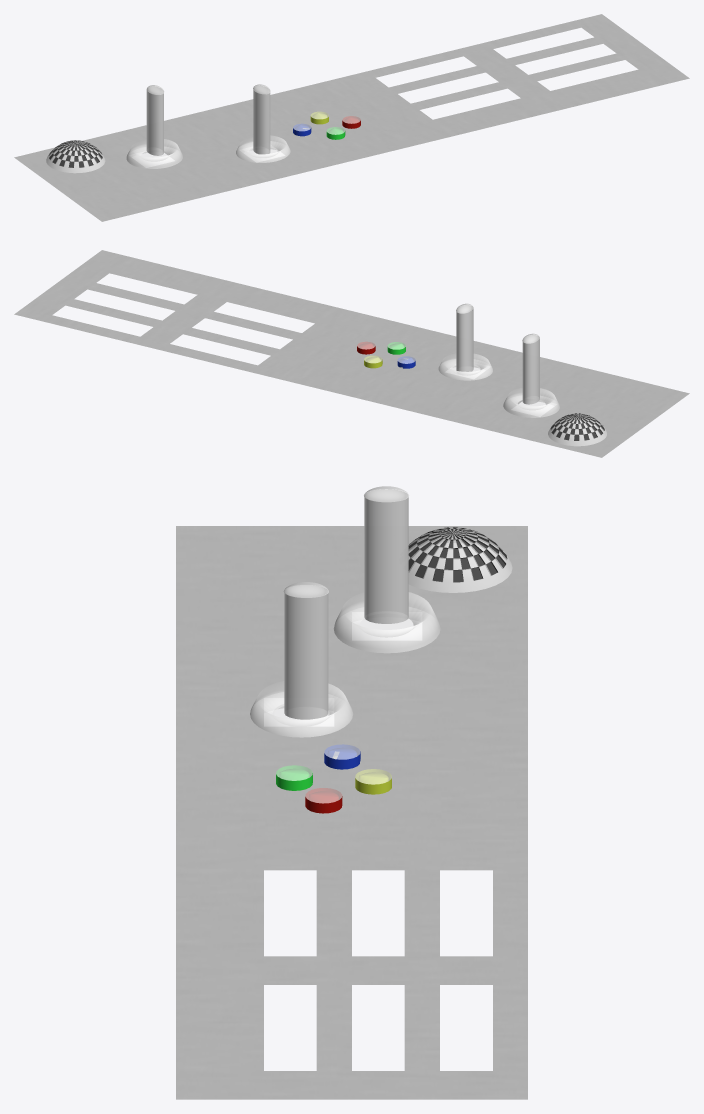
File: HUD.FBX
3 views of the same model, one above another, from view 1: azimuth 30°, elevation 25°; view 2: azimuth 150°, elevation 25°; view 3: azimuth 270°, elevation 25° (orthographic). The views are drawn at different scales.
Visible parts, largest first — view 1: Panel, StickHolder (×2), Speaker, LeftStick, RightStick; view 2: Panel, StickHolder (×2), Speaker, LeftStick, RightStick; view 3: Panel, StickHolder (×2), LeftStick, RightStick, Speaker.
Boxes of the visible parts, box(x1,y1,x2,y2) form: Panel: box(14, 14, 689, 221); StickHolder (×2): box(126, 135, 290, 168); Speaker: box(46, 140, 105, 173); LeftStick: box(146, 85, 164, 155); RightStick: box(253, 84, 270, 154); Panel: box(14, 250, 689, 457); StickHolder (×2): box(438, 353, 559, 417); Speaker: box(548, 413, 606, 446); LeftStick: box(522, 333, 539, 404); RightStick: box(456, 303, 473, 371); Panel: box(176, 526, 527, 1099); StickHolder (×2): box(250, 592, 440, 737); LeftStick: box(364, 486, 408, 623); RightStick: box(283, 582, 328, 719); Speaker: box(408, 527, 512, 592).
Size of the model in its own units: 150 by 19.58 by 38.91.
